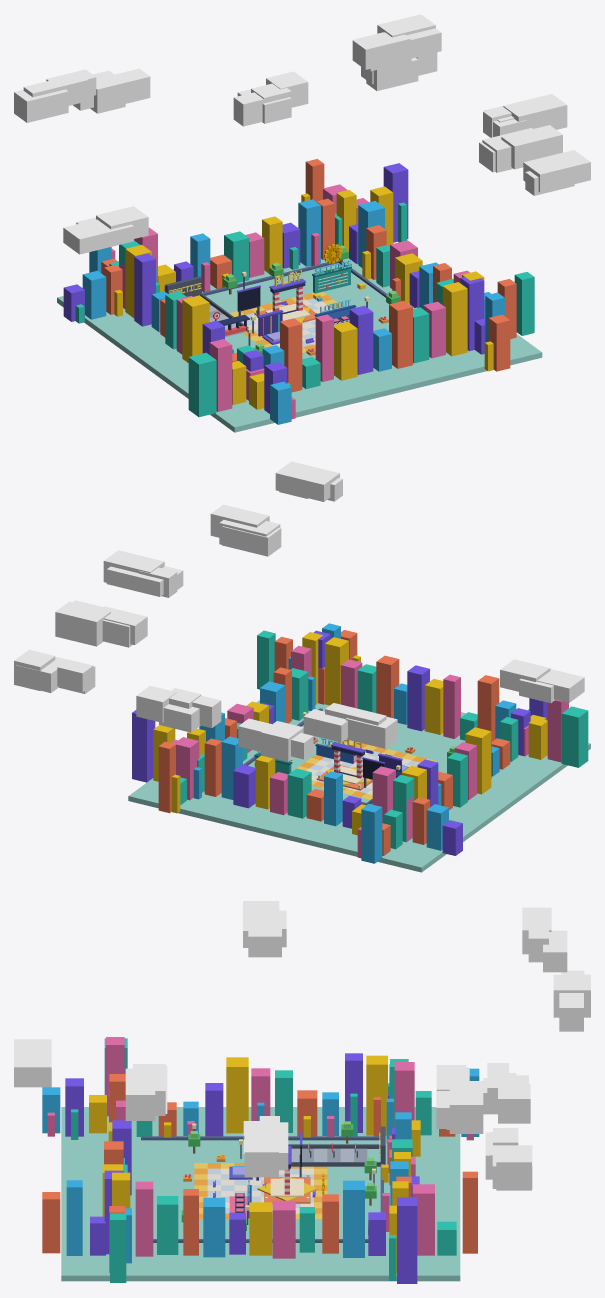
Rendered from lobby.glb.
3 renders of one model, top to bottom at view 1: azimuth 30°, elevation 25°; view 2: azimuth 150°, elevation 25°; view 3: azimuth 270°, elevation 25°, orthographic. The views are drawn at different scales.
Visible parts, largest first — view 1: lobby_Sky_cloud, lobby_Ground_ground, lobby_Scenery_sky6, lobby_Scenery_sky1, lobby_Scenery_sky3, lobby_Scenery_sky4, lobby_Scenery_sky2, lobby_Scenery_sky5, lobby_Ground_kerb, lobby_Practice_backstop, lobby_Settings_panelBody; view 2: lobby_Sky_cloud, lobby_Ground_ground, lobby_Scenery_sky4, lobby_Scenery_sky3, lobby_Scenery_sky6, lobby_Scenery_sky5, lobby_Scenery_sky2, lobby_Scenery_sky1; view 3: lobby_Ground_ground, lobby_Sky_cloud, lobby_Scenery_sky1, lobby_Scenery_sky5, lobby_Scenery_sky2, lobby_Scenery_sky3, lobby_Scenery_sky6, lobby_Scenery_sky4, lobby_Ground_kerb, lobby_Practice_backstop, lobby_Ground_tileA, lobby_Ground_tileB (+6 smaller).
Part boxes in pixels (bbox=[...]): lobby_Sky_cloud: bbox=[14, 14, 590, 254]; lobby_Ground_ground: bbox=[57, 258, 542, 432]; lobby_Scenery_sky6: bbox=[114, 186, 493, 409]; lobby_Scenery_sky1: bbox=[63, 163, 485, 413]; lobby_Scenery_sky3: bbox=[101, 159, 516, 392]; lobby_Scenery_sky4: bbox=[75, 202, 534, 417]; lobby_Scenery_sky2: bbox=[82, 199, 504, 424]; lobby_Scenery_sky5: bbox=[111, 184, 469, 419]; lobby_Ground_kerb: bbox=[193, 260, 387, 297]; lobby_Practice_backstop: bbox=[165, 276, 248, 330]; lobby_Settings_panelBody: bbox=[313, 268, 350, 293]; lobby_Sky_cloud: bbox=[14, 461, 584, 761]; lobby_Ground_ground: bbox=[128, 700, 590, 872]; lobby_Scenery_sky4: bbox=[180, 630, 588, 849]; lobby_Scenery_sky3: bbox=[158, 630, 510, 855]; lobby_Scenery_sky6: bbox=[153, 632, 547, 835]; lobby_Scenery_sky5: bbox=[171, 645, 568, 858]; lobby_Scenery_sky2: bbox=[193, 623, 516, 863]; lobby_Scenery_sky1: bbox=[132, 630, 547, 855]; lobby_Ground_ground: bbox=[61, 1107, 460, 1281]; lobby_Sky_cloud: bbox=[14, 901, 590, 1190]; lobby_Scenery_sky1: bbox=[65, 1053, 419, 1283]; lobby_Scenery_sky5: bbox=[47, 1037, 473, 1258]; lobby_Scenery_sky2: bbox=[42, 1064, 479, 1263]; lobby_Scenery_sky3: bbox=[42, 1071, 477, 1272]; lobby_Scenery_sky6: bbox=[89, 1055, 420, 1273]; lobby_Scenery_sky4: bbox=[71, 1038, 456, 1282]; lobby_Ground_kerb: bbox=[141, 1136, 383, 1242]; lobby_Practice_backstop: bbox=[288, 1126, 385, 1166]; lobby_Ground_tileA: bbox=[207, 1168, 313, 1213]; lobby_Ground_tileB: bbox=[207, 1168, 313, 1213].
Size of the model in its own units: 191 by 76.11 by 174.
